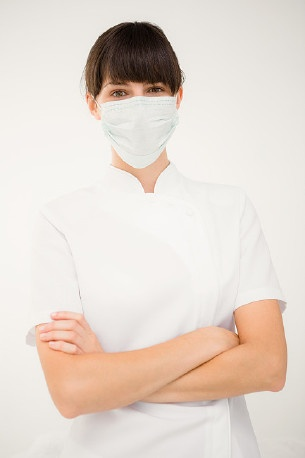Mask: (95, 74, 184, 162)
